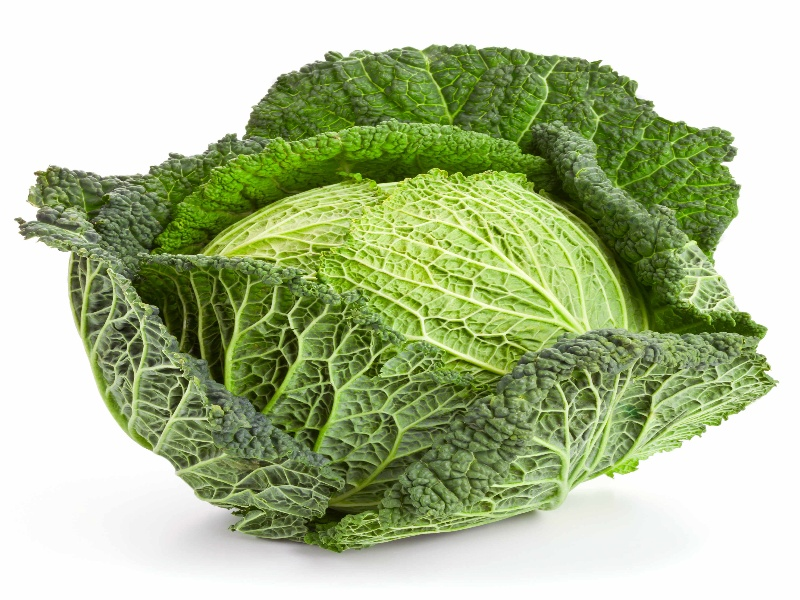Repollo: (48, 48, 778, 554)
